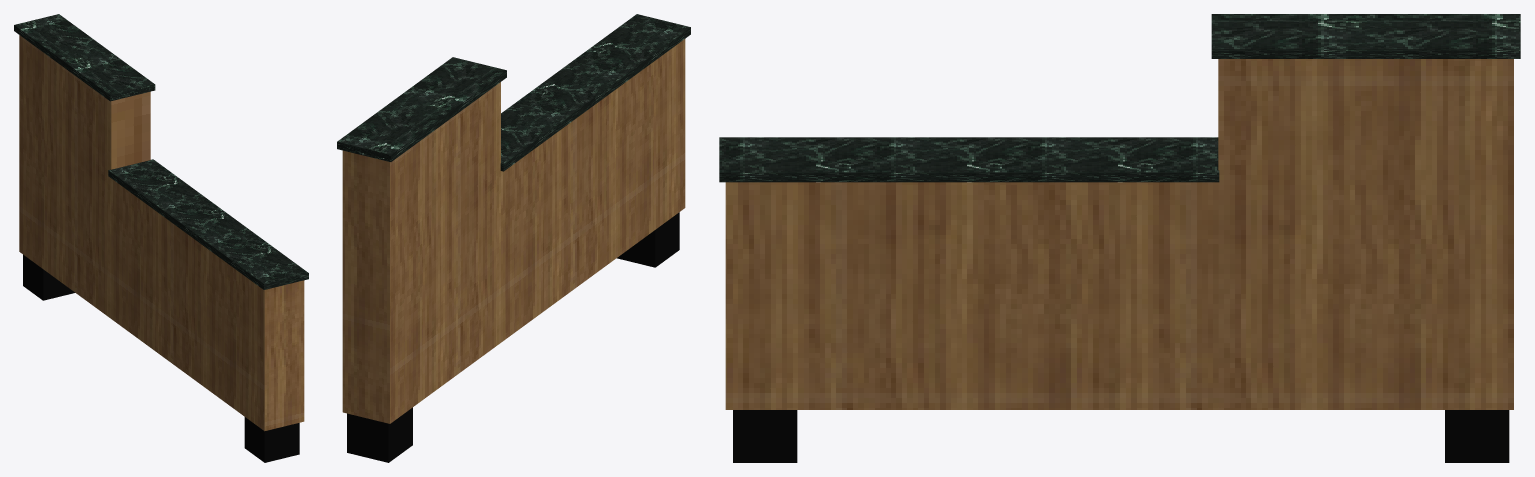
File: WallPiece.dae
The picture shows the model from 3 angles, left to right: view 1: azimuth 30°, elevation 25°; view 2: azimuth 150°, elevation 25°; view 3: azimuth 270°, elevation 25°; orthographic projection. The views are drawn at different scales.
Parts seen in each view (by area): view 1: WallPiece; view 2: WallPiece; view 3: WallPiece.
Part boxes in pixels (bbox=[...]): WallPiece: bbox=[14, 14, 308, 462]; WallPiece: bbox=[337, 14, 690, 462]; WallPiece: bbox=[719, 14, 1520, 462].
Bounding box in the file's own units: 0.852 × 8.13 × 4.67.
3 materials, 2 textured.
